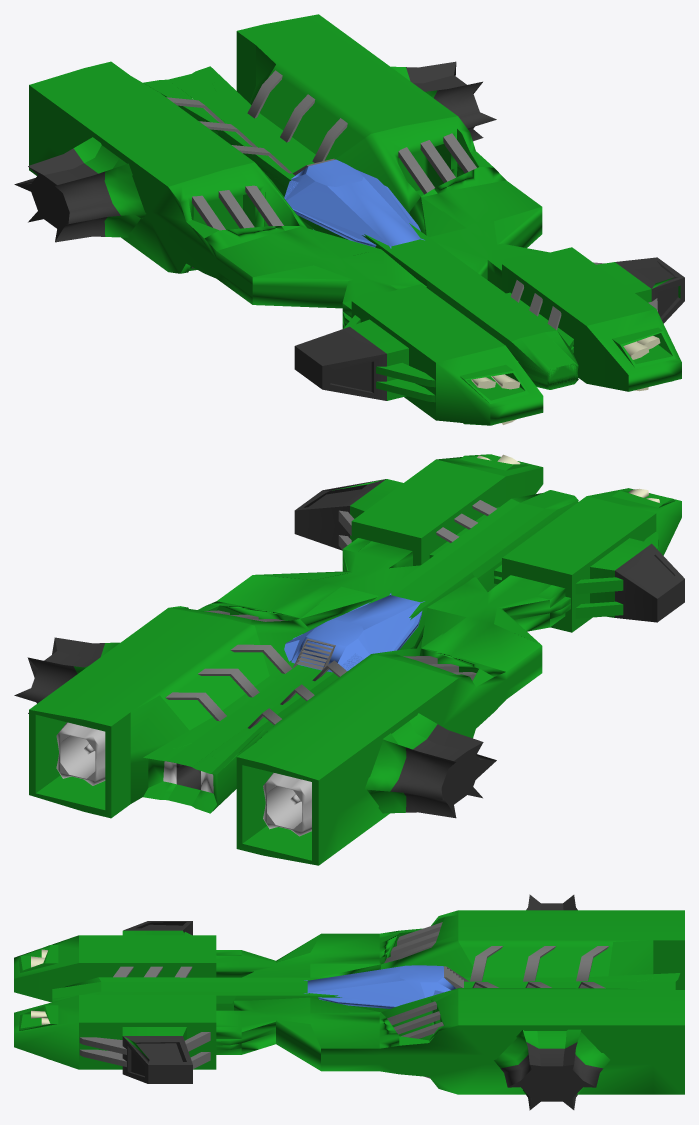
The model's file is venomremakenormaled.fbx.
3 renders of one model, top to bottom at view 1: azimuth 30°, elevation 25°; view 2: azimuth 150°, elevation 25°; view 3: azimuth 270°, elevation 25°, orthographic. The views are drawn at different scales.
Parts seen in each view (by area): view 1: Cube; view 2: Cube; view 3: Cube.
Part boxes in pixels (bbox=[...]): Cube: bbox=[14, 14, 684, 425]; Cube: bbox=[14, 454, 684, 865]; Cube: bbox=[14, 894, 684, 1110].
Size of the model in its own units: 586 by 120 by 976.
